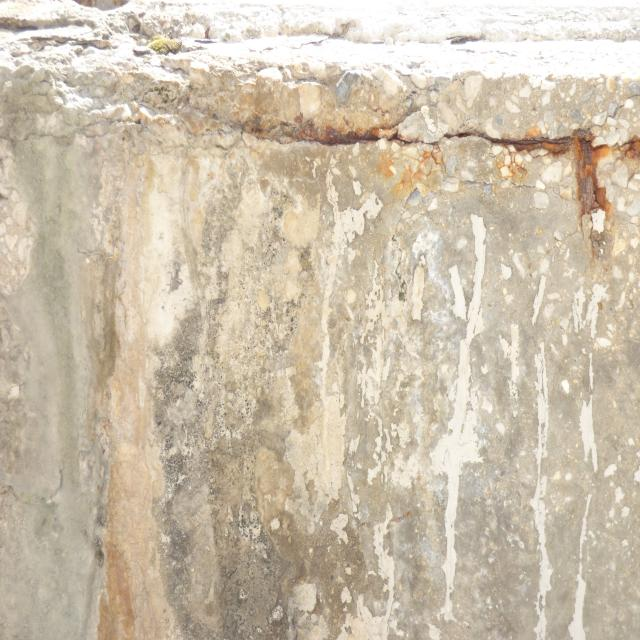corrosion: (131, 77, 640, 256)
